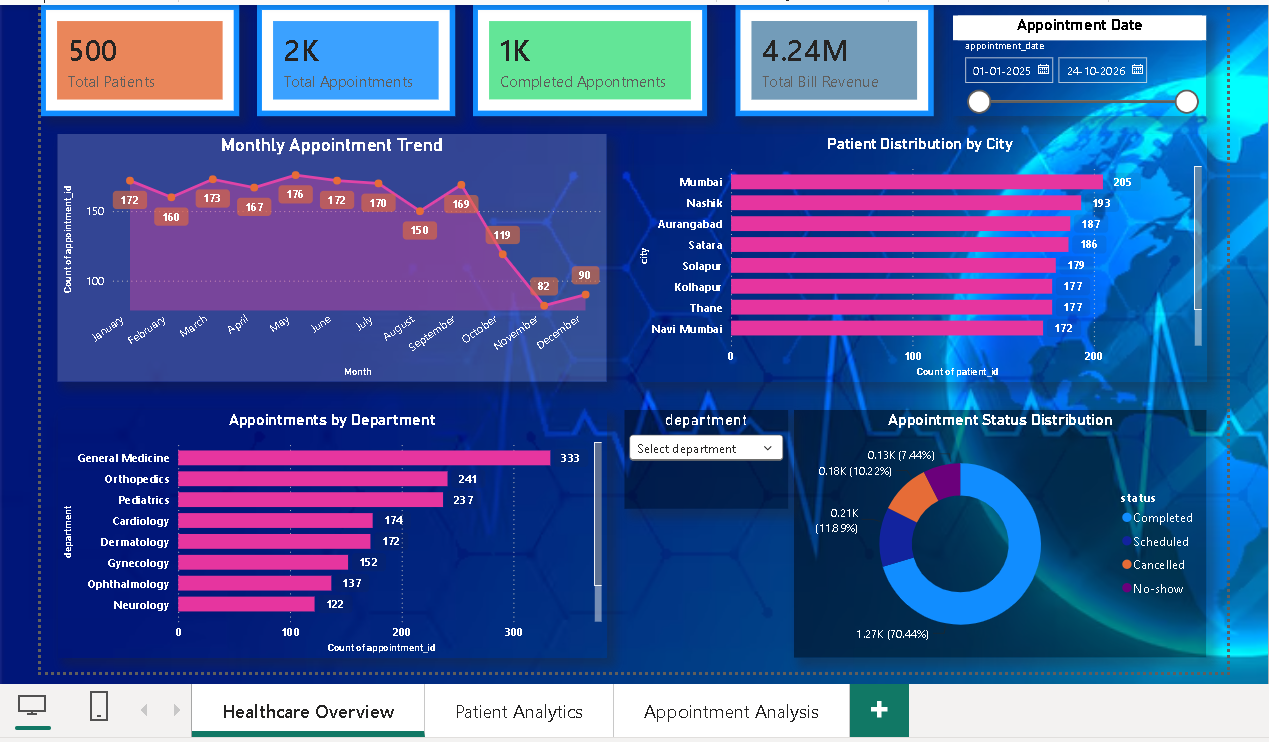

Layout of this report page (visuals, bound fields, positions):
{"tool":"powerbi","page":{"name":"Healthcare Overview","canvas":[1280,720],"ordinal":0},"visuals":[{"type":"cardVisual","title":"Total Patients","fields":{"Data":["patients.Total Patients"]},"box":[0,0,213.7,119.8],"z":0},{"type":"cardVisual","fields":{"Data":["appointments.Total Appointments"]},"box":[233.2,0,213.7,119.8],"z":1000},{"type":"cardVisual","fields":{"Data":["appointments.Completed Appontments"]},"box":[466.3,0,252.6,119.8],"z":2000},{"type":"cardVisual","fields":{"Data":["billing.Total Bill Revenue"]},"box":[749.7,0,213.7,119.8],"z":3000},{"type":"lineChart","title":"Monthly Appointment Trend","fields":{"Category":["appointments.appointment_date.Variation.Date Hierarchy.Year","appointments.appointment_date.Variation.Date Hierarchy.Month"],"Y":["CountNonNull(appointments.appointment_id)"]},"box":[17.8,139.3,592.6,267.2],"z":4000},{"type":"barChart","title":"Appointments by Department","fields":{"Category":["appointments.department"],"Y":["CountNonNull(appointments.appointment_id)"]},"box":[17.8,437.2,592.6,267.2],"z":5000},{"type":"barChart","title":"Patient Distribution by City","fields":{"Category":["appointments.city"],"Y":["CountNonNull(appointments.patient_id)"]},"box":[639.6,139.3,618.5,267.2],"z":6000},{"type":"donutChart","title":"Appointment Status Distribution","fields":{"Category":["appointments.status"],"Y":["CountNonNull(appointments.appointment_id)"]},"box":[812.9,437.2,445.3,267.2],"z":7000},{"type":"slicer","title":"Appointment Date","fields":{"Values":["appointments.appointment_date"]},"box":[984.5,11.3,273.6,108.5],"z":8000},{"type":"listSlicer","fields":{"Values":["appointments.department"]},"box":[629.9,437.2,176.5,106.9],"z":9000}]}

Visuals, with their boxes on the page's 1280x720 design canvas (x1, y1, x2, y2). These are canvas units, not pixel positions in the 1269x742 screenshot, which may show the page scaled, cropped or inside an application window:
"Total Patients" cardVisual: (0, 0, 214, 120)
cardVisual - appointments.Total Appointments: (233, 0, 447, 120)
cardVisual - appointments.Completed Appontments: (466, 0, 719, 120)
cardVisual - billing.Total Bill Revenue: (750, 0, 963, 120)
"Monthly Appointment Trend" lineChart: (18, 139, 610, 406)
"Appointments by Department" barChart: (18, 437, 610, 704)
"Patient Distribution by City" barChart: (640, 139, 1258, 406)
"Appointment Status Distribution" donutChart: (813, 437, 1258, 704)
"Appointment Date" slicer: (984, 11, 1258, 120)
listSlicer - appointments.department: (630, 437, 806, 544)
